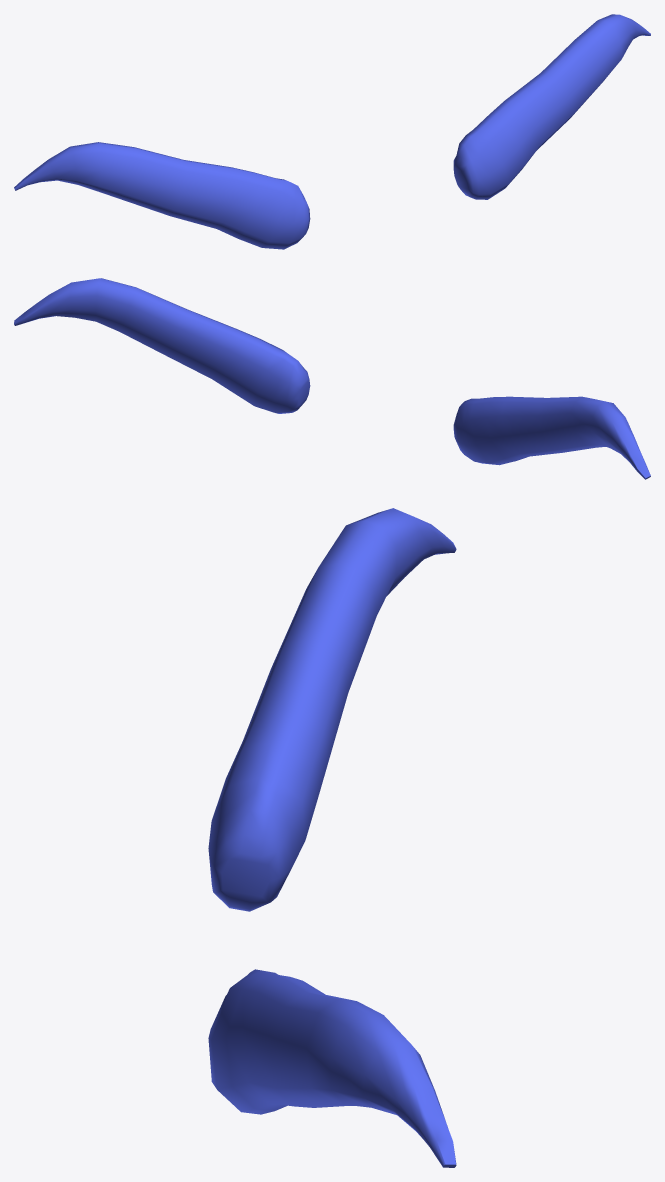
Rendered from Eyebrows_02_03.fbx.
3 renders of one model, top to bottom at view 1: azimuth 30°, elevation 25°; view 2: azimuth 150°, elevation 25°; view 3: azimuth 270°, elevation 25°, orthographic. The views are drawn at different scales.
Visible parts, largest first — view 1: Eyebrows_02_03; view 2: Eyebrows_02_03; view 3: Eyebrows_02_03.
Boxes of the visible parts, <box> form: Eyebrows_02_03: <box>14,14,650,249</box>; Eyebrows_02_03: <box>14,278,650,479</box>; Eyebrows_02_03: <box>208,508,456,1167</box>.
Bounding box in the file's own units: 18.03 × 3.24 × 3.04.
